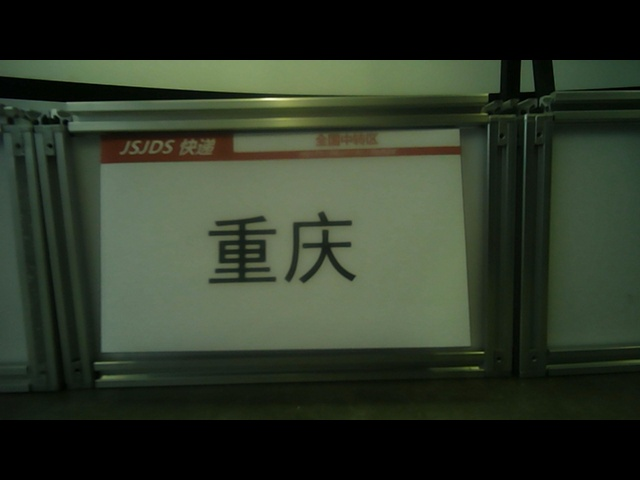chongqing: (202, 208, 361, 290)
paper: (93, 128, 473, 350)
